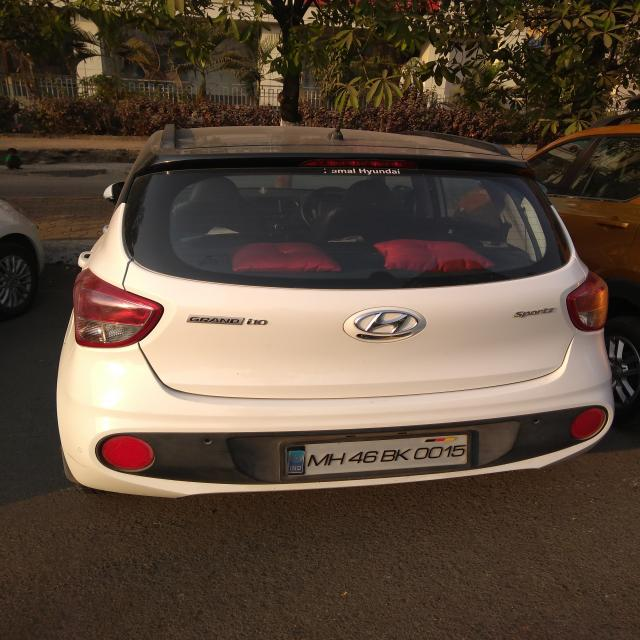Number-Plate: (284, 438, 474, 473)
